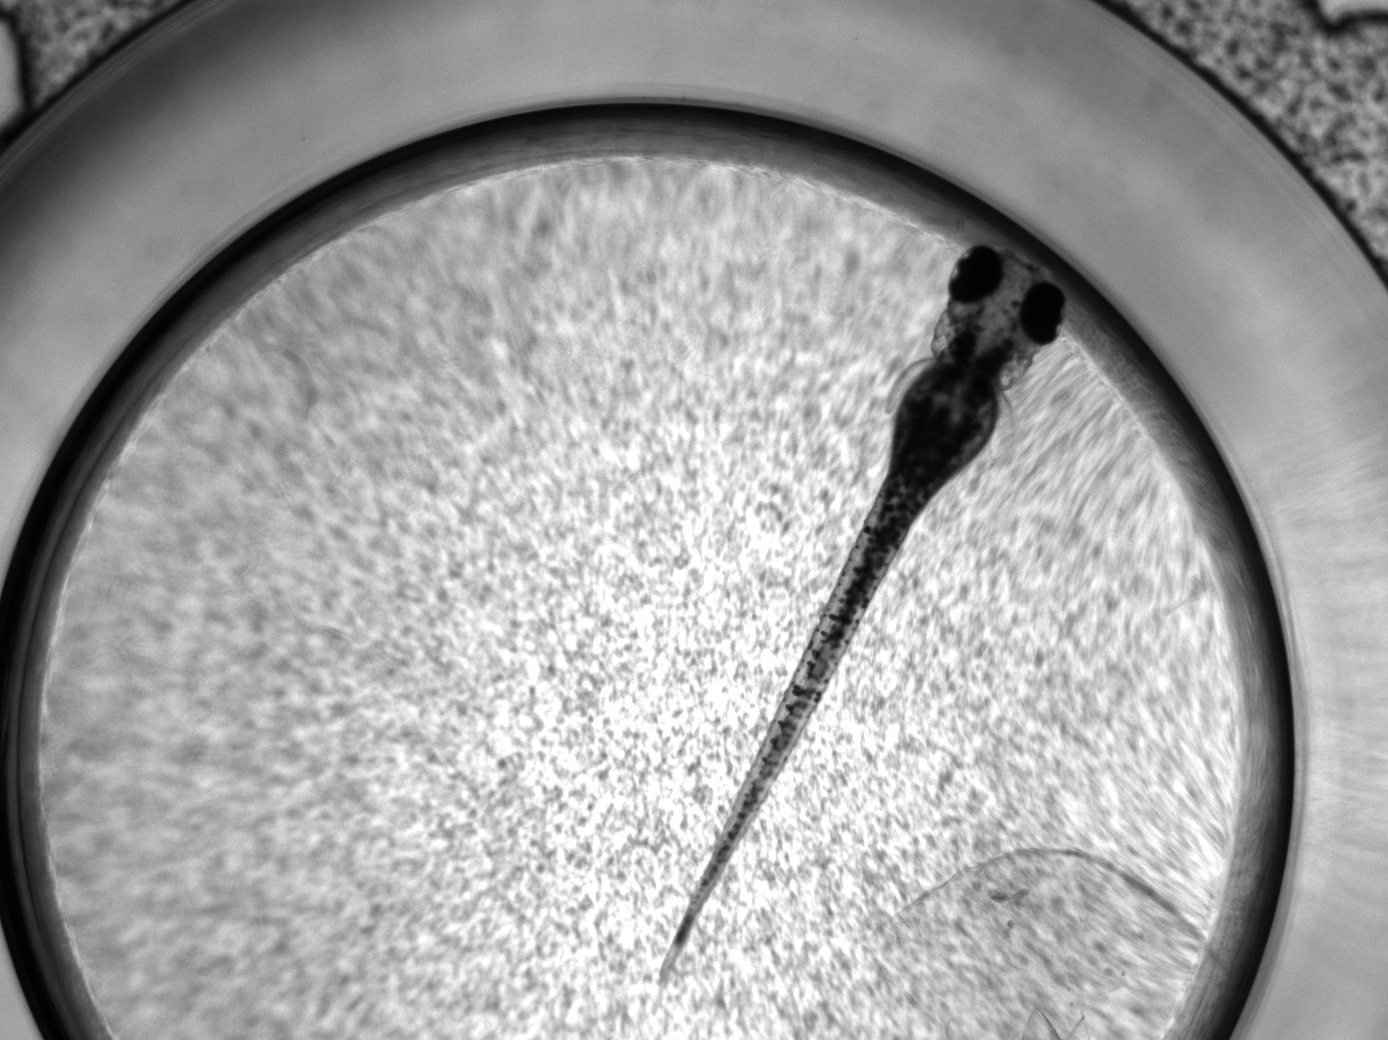embryo: (659, 244, 1067, 989)
eye: (947, 244, 1003, 303), (1017, 282, 1066, 346)
yolksac: (894, 364, 998, 482)
